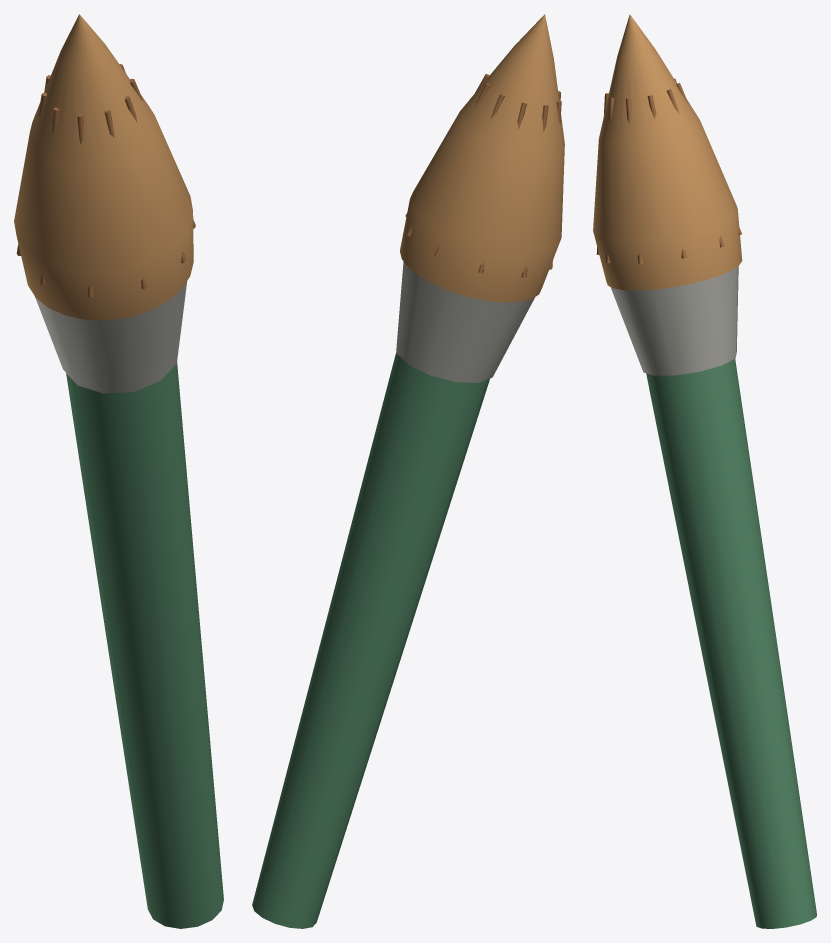
The model's file is brush.glb.
3 views of the same model, side by side, from view 1: azimuth 30°, elevation 25°; view 2: azimuth 150°, elevation 25°; view 3: azimuth 270°, elevation 25° (orthographic). The views are drawn at different scales.
Bounding box in the file's own units: 0.2794 × 1.03 × 0.2499.
